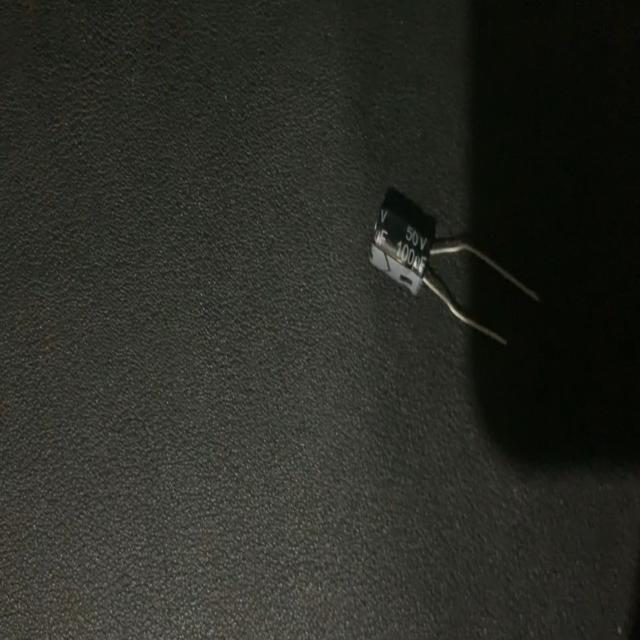capacitor: (365, 198, 539, 348)
